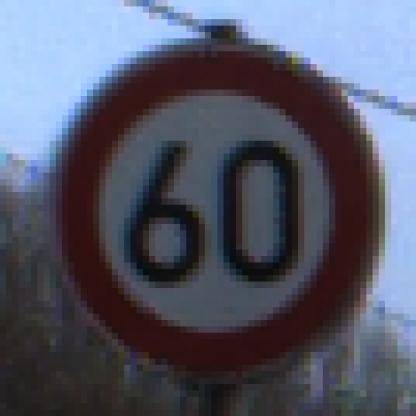Speed Limit 60: (63, 50, 358, 370)
